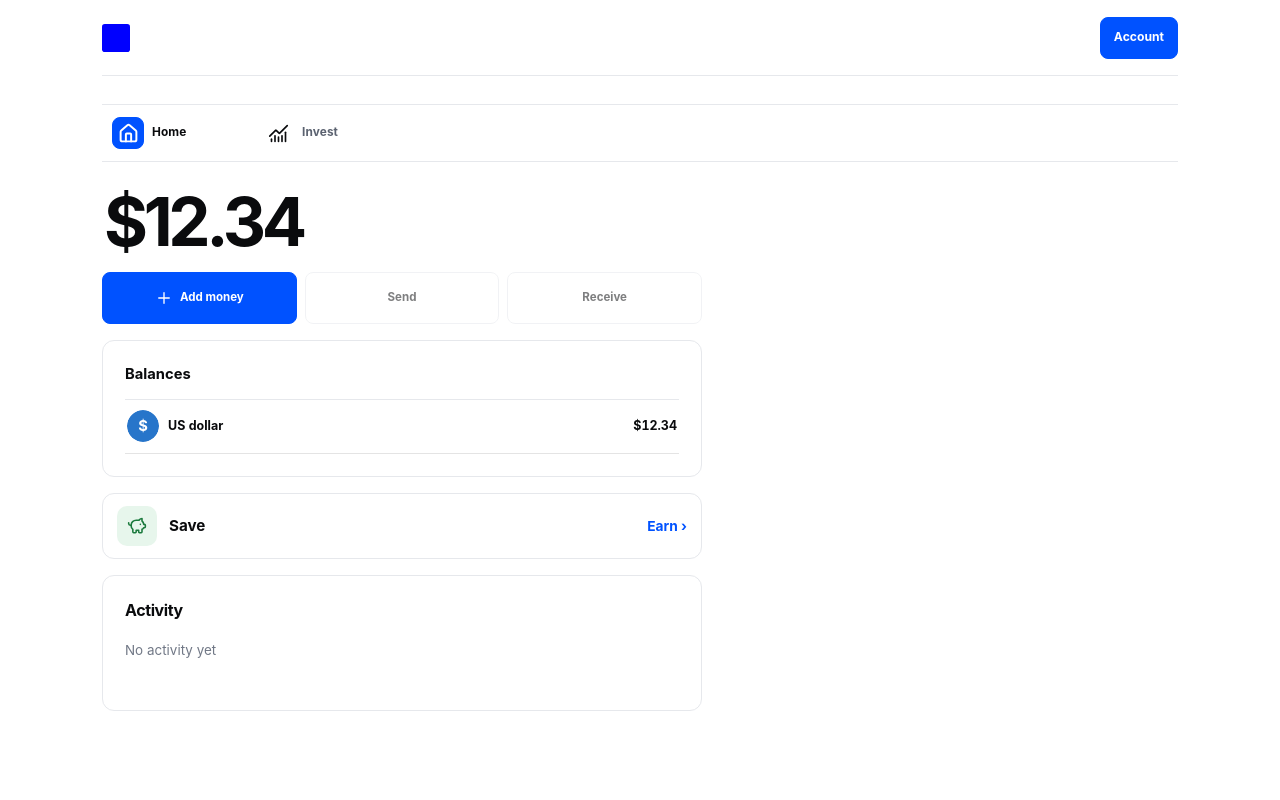
Test: login-state home experience › treats a verified session without a smart account as authenticated but not ready
Click the button "Account".
click(1139, 38)  # box [1100,16,1178,58]
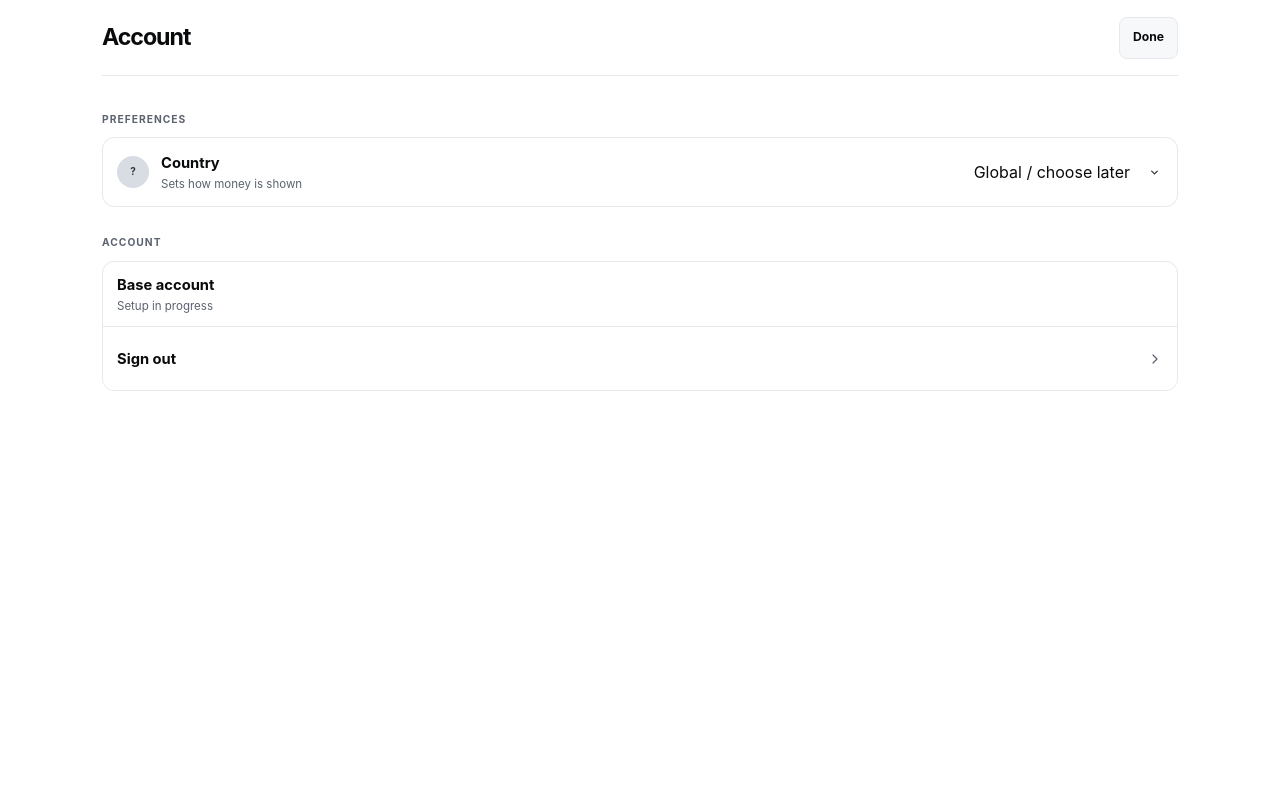
Expected: the text "Setup in progress" is shown, [117,299,213,313]
